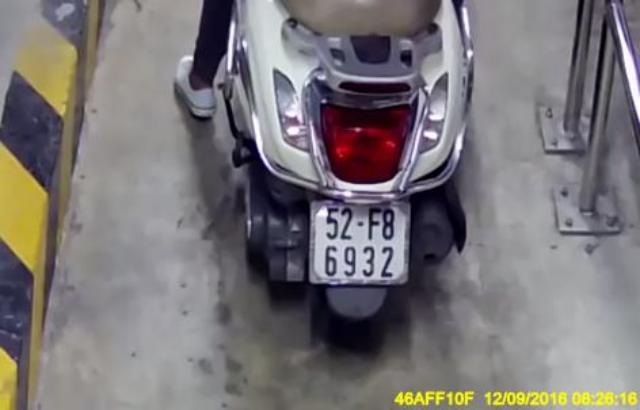plate: (304, 197, 412, 293)
